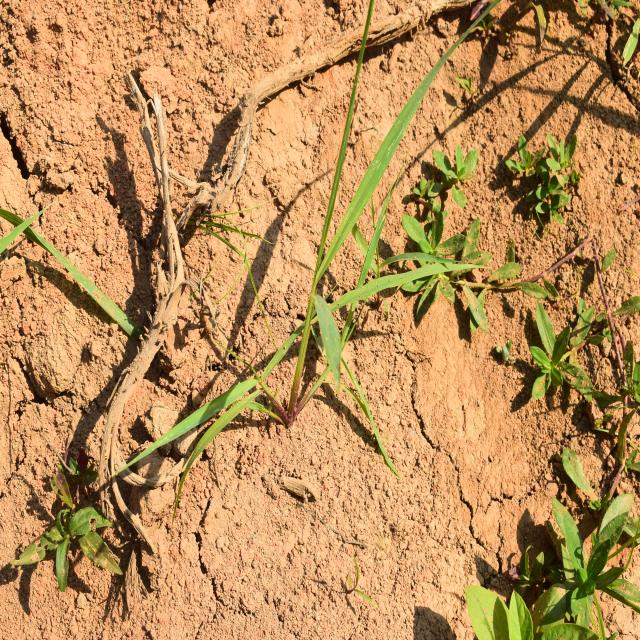green_foxtail: (164, 69, 410, 476)
